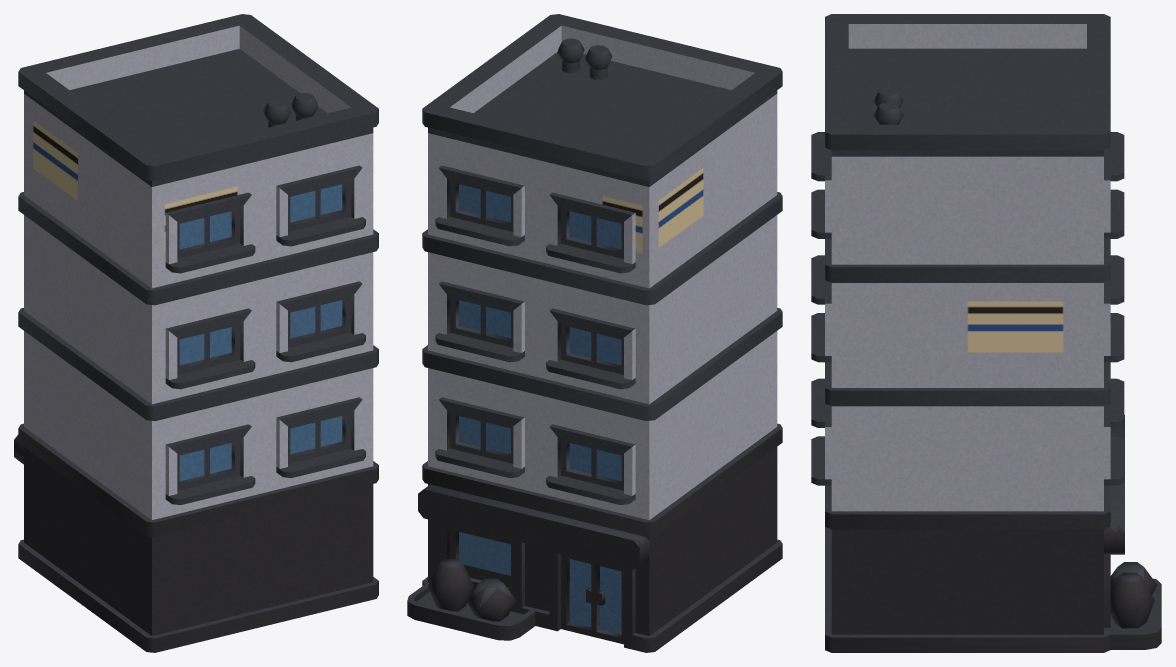
Rendered from building-f-white.glb.
3 renders of one model, left to right at view 1: azimuth 30°, elevation 25°; view 2: azimuth 150°, elevation 25°; view 3: azimuth 270°, elevation 25°, orthographic. The views are drawn at different scales.
Visible parts, largest first — view 1: building-f-white; view 2: building-f-white; view 3: building-f-white.
Part boxes in pixels (x1,y1,x2,y2): building-f-white: (14, 14, 378, 652); building-f-white: (407, 14, 782, 652); building-f-white: (811, 14, 1161, 652).
Bounding box in the file's own units: 0.84 × 1.69 × 1.03.
1 material, 1 textured.
